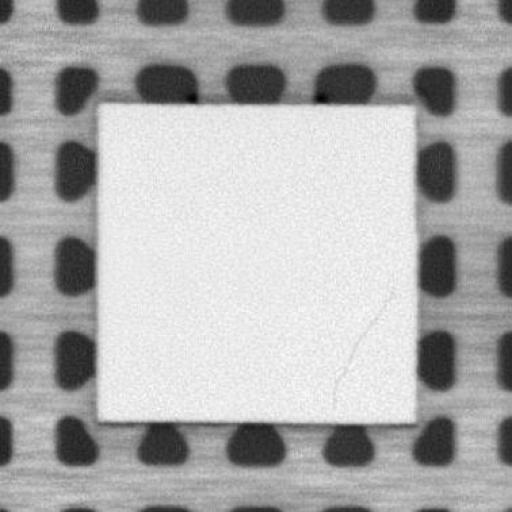DIE_CRACK: (328, 289, 395, 405)
